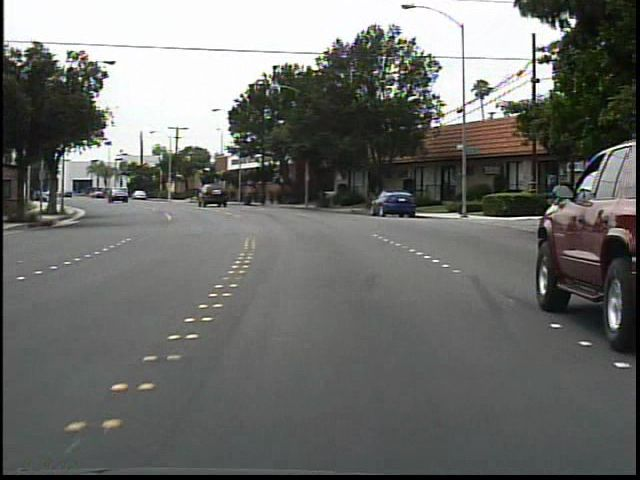car: (528, 121, 640, 334), (370, 185, 416, 218), (200, 181, 228, 207), (107, 187, 129, 203)
strada: (6, 217, 621, 469)
